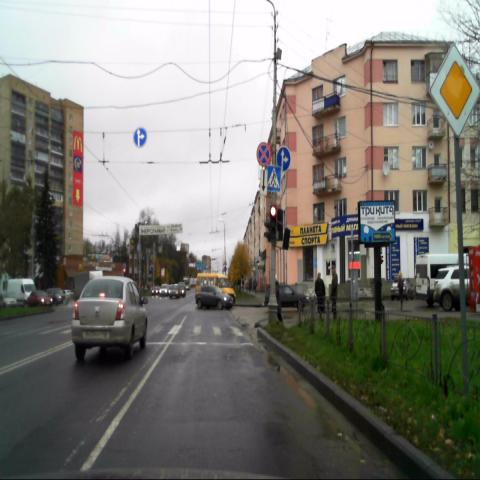4_1_4: (276, 146, 290, 172)
